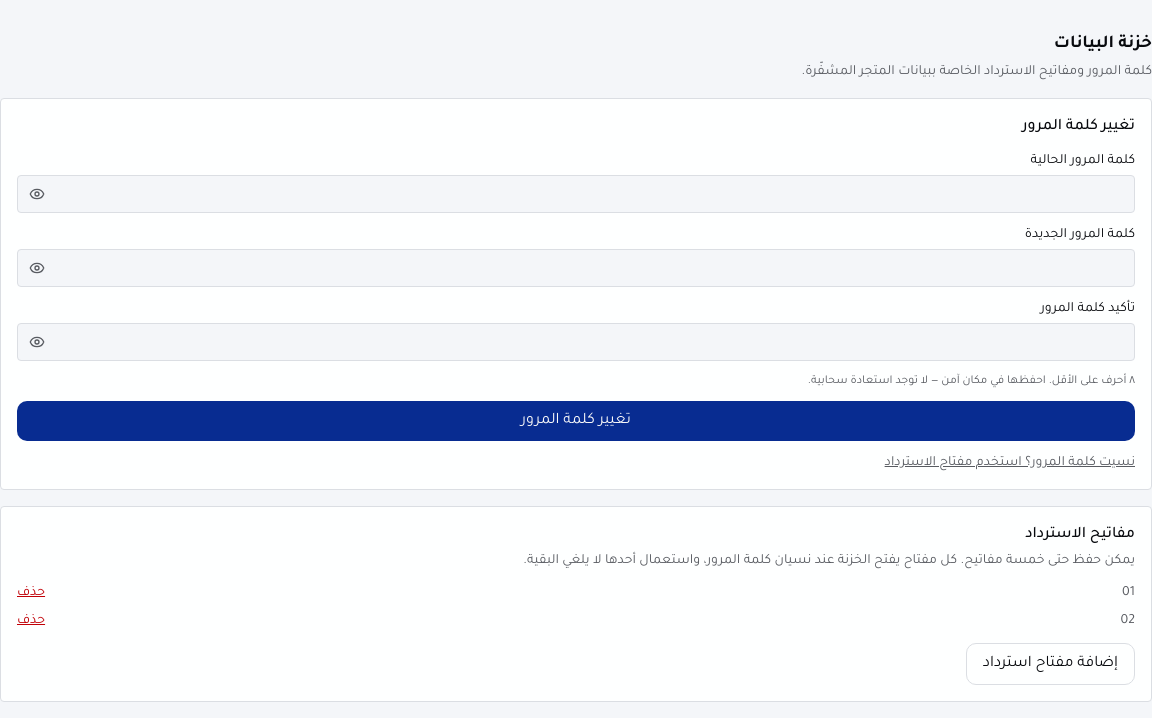
Test: VaultSettings › deletes a recovery key and adopts the rotated token, but never offers to delete the last one
This screenshot has width=1152, height=718.
Click the button with test id "vault-delete-key-1". click: coordinates (31, 593)
box: x1=17 y1=583 x2=45 y2=603
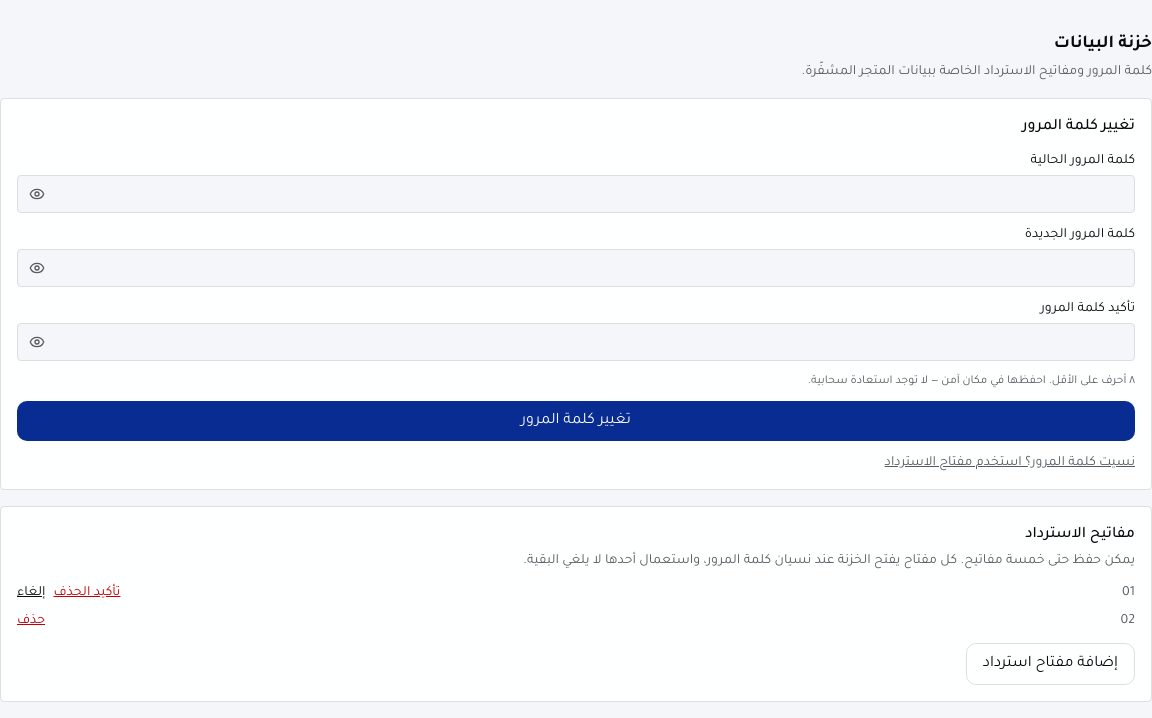
Click the button "تأكيد الحذف". click: coordinates (87, 593)
box: x1=54 y1=583 x2=120 y2=603
(page scrolled)
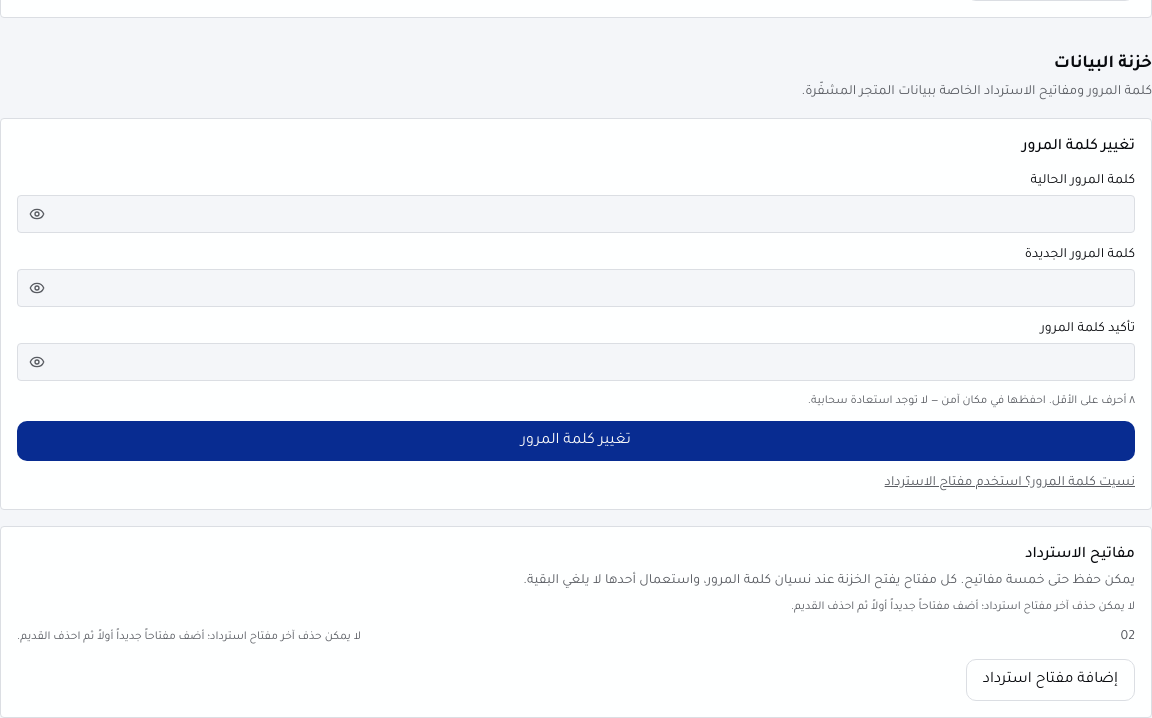
Result: the text with test id "vault-last-key-hint" is shown at x1=791 y1=601 x2=1135 y2=613
